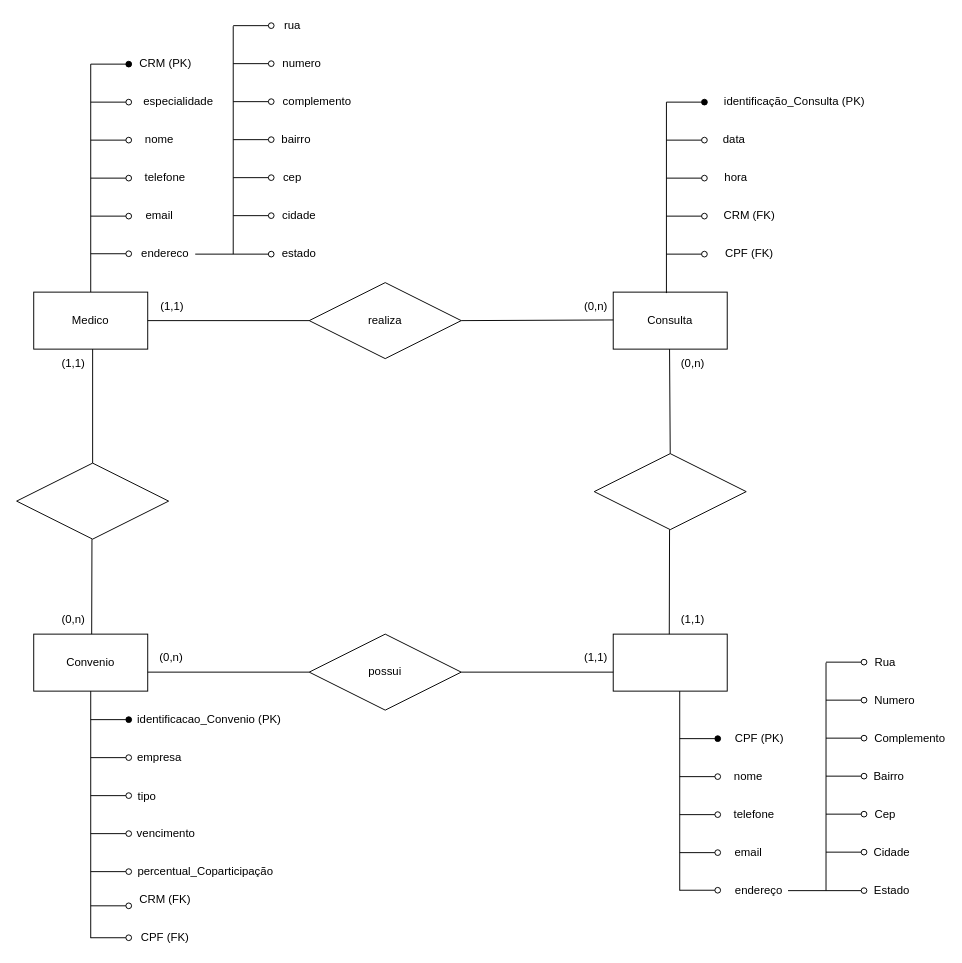
The diagram is 962 pixels wide and 963 high, and some of its shapes have lost their labels. Each missing label, with the centre of its shape:
atende: point 92,500
marca: point 669,491
Paciente: point 669,662
